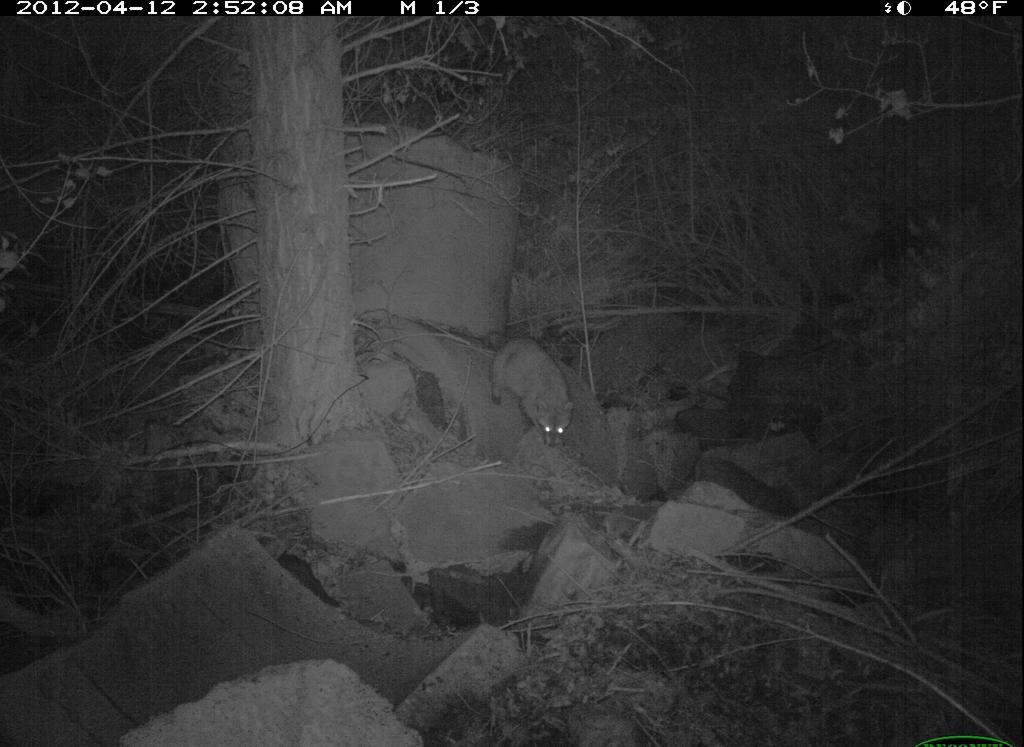raccoon: (470, 327, 578, 451)
